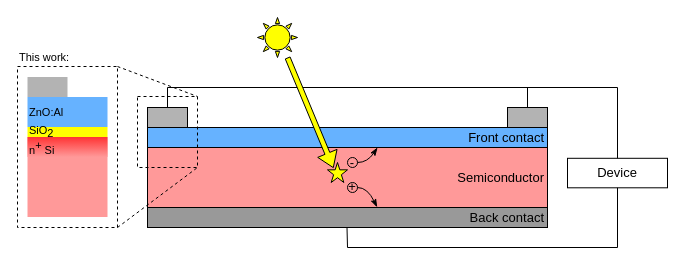
This 685x266 diagram has some shape labels left out. The centre of each missing label's shape, as x and y in pixels:
Ag: (x=47, y=86)
Metal: (x=527, y=117)
